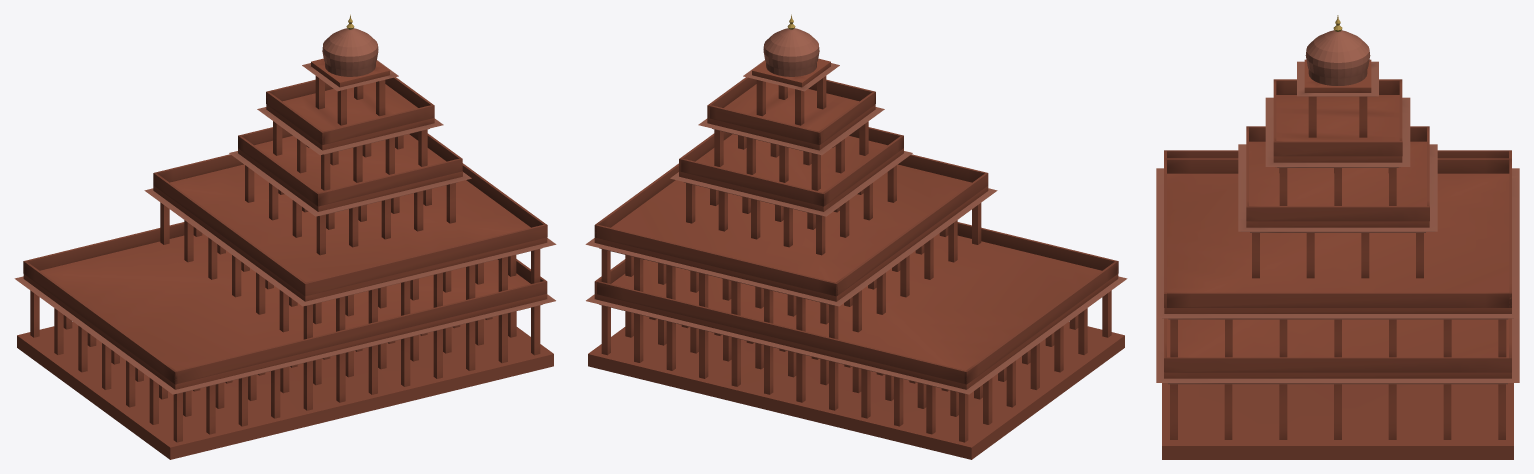
File: panch-mahal.glb
3 views of the same model, side by side, from view 1: azimuth 30°, elevation 25°; view 2: azimuth 150°, elevation 25°; view 3: azimuth 270°, elevation 25° (orthographic). The views are drawn at different scales.
Parts seen in each view (by area): view 1: p0_ground storey, p1_upper storeys, p2_top; view 2: p0_ground storey, p1_upper storeys, p2_top; view 3: p1_upper storeys, p0_ground storey, p2_top.
Boxes of the visible parts, x1=… form: p0_ground storey: x1=14, y1=222, x2=555, y2=459; p1_upper storeys: x1=144, y1=127, x2=556, y2=339; p2_top: x1=257, y1=14, x2=443, y2=190; p0_ground storey: x1=586, y1=222, x2=1127, y2=459; p1_upper storeys: x1=585, y1=127, x2=997, y2=339; p2_top: x1=698, y1=14, x2=884, y2=190; p1_upper storeys: x1=1156, y1=126, x2=1519, y2=357; p0_ground storey: x1=1156, y1=150, x2=1519, y2=459; p2_top: x1=1265, y1=15, x2=1410, y2=205.
Size of the model in its own units: 26 by 21.17 by 18.6.
